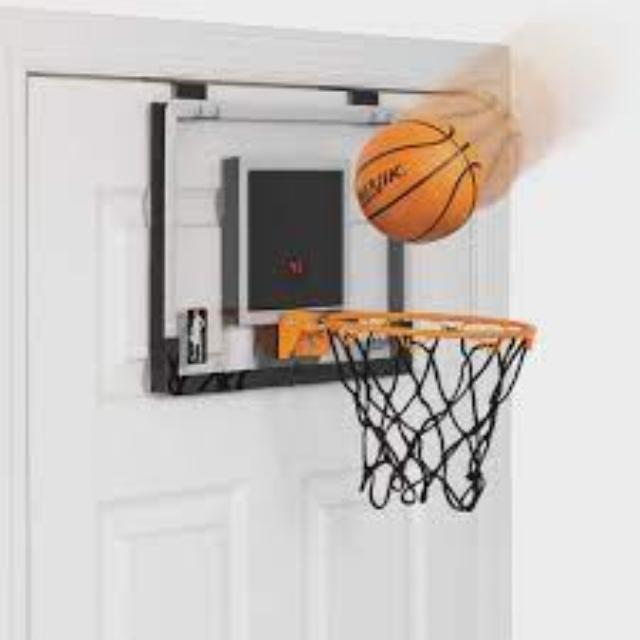basketball: (354, 122, 480, 242)
rim: (325, 312, 535, 514)
